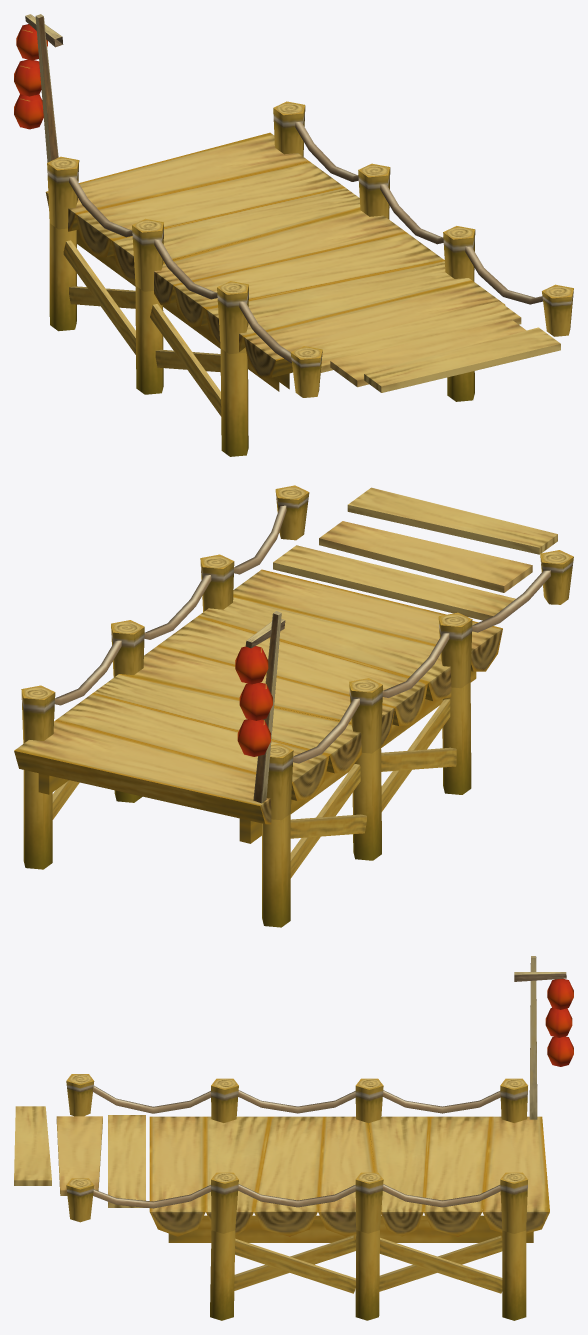
File: yutai.fbx
The picture shows the model from 3 angles, top to bottom: view 1: azimuth 30°, elevation 25°; view 2: azimuth 150°, elevation 25°; view 3: azimuth 270°, elevation 25°; orthographic projection. The views are drawn at different scales.
Parts seen in each view (by area): view 1: yutai; view 2: yutai; view 3: yutai.
Part boxes in pixels (bbox=[...]): yutai: bbox=[14, 14, 573, 456]; yutai: bbox=[14, 485, 573, 927]; yutai: bbox=[14, 956, 573, 1320].
Size of the model in its own units: 20.96 by 21.9 by 42.84.
